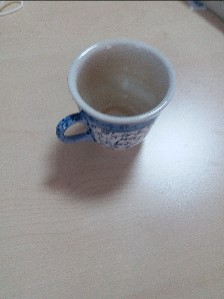cup: (59, 37, 172, 156)
